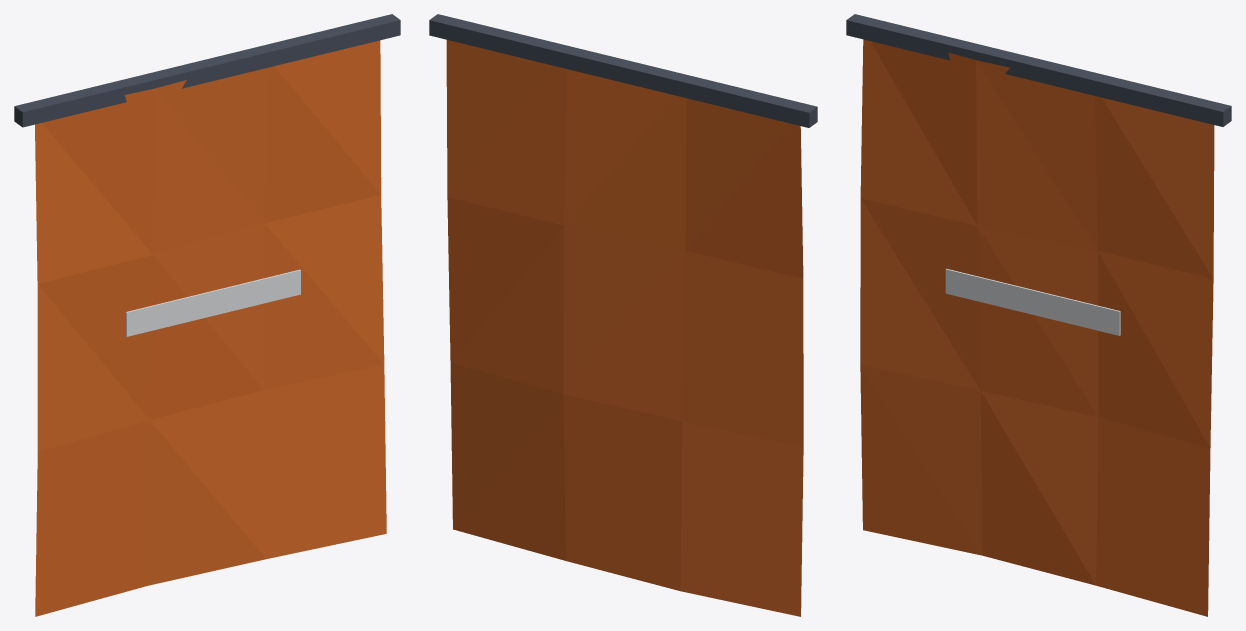
The model's file is team_banner_orange.glb.
The picture shows the model from 3 angles, left to right: view 1: azimuth 30°, elevation 25°; view 2: azimuth 150°, elevation 25°; view 3: azimuth 330°, elevation 25°; orthographic projection.
Parts seen in each view (by area): view 1: team_banner_orange; view 2: team_banner_orange; view 3: team_banner_orange.
Part boxes in pixels (x1,y1,x2,y2): team_banner_orange: (14,14,400,616); team_banner_orange: (429,14,817,616); team_banner_orange: (846,14,1231,616).
Bounding box in the file's own units: 1.3 × 1.68 × 0.0625.
